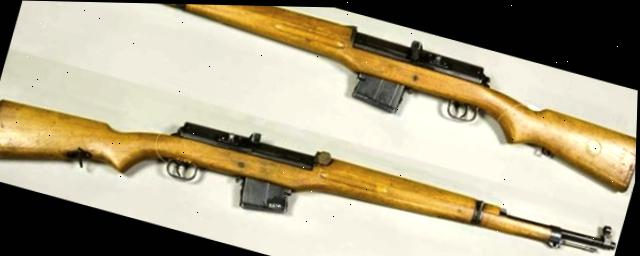rifle: (0, 57, 626, 256), (16, 0, 640, 190)
